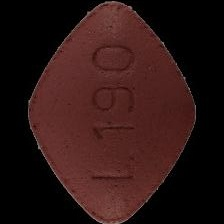63304-192: (0, 0, 224, 224)
